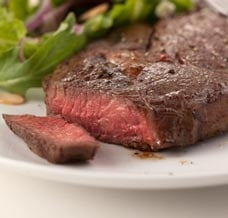soup: (36, 1, 228, 152)
